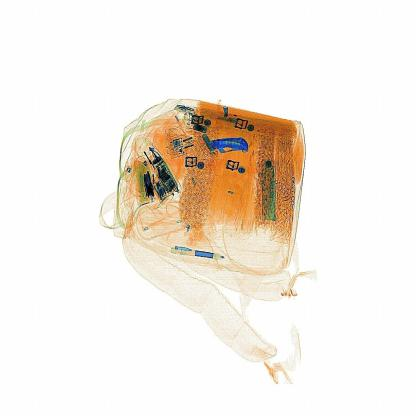knife: (208, 132, 261, 162)
